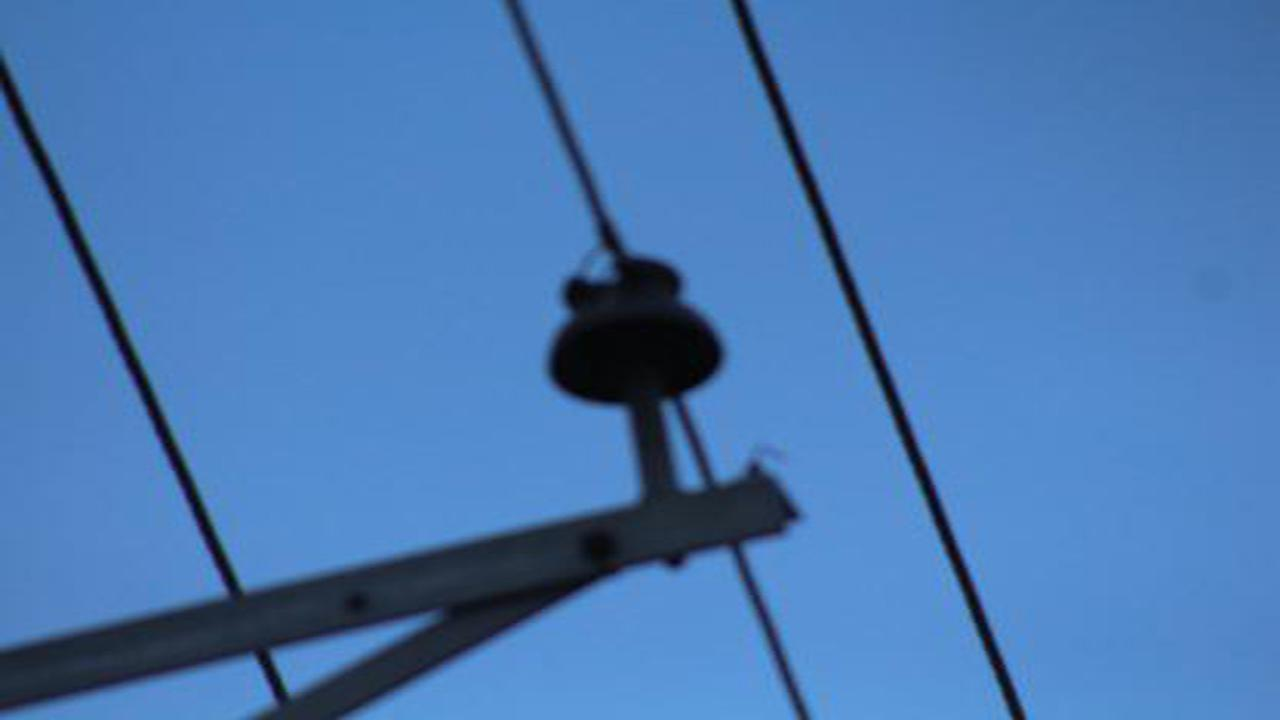insulator_pin: (538, 248, 734, 414)
